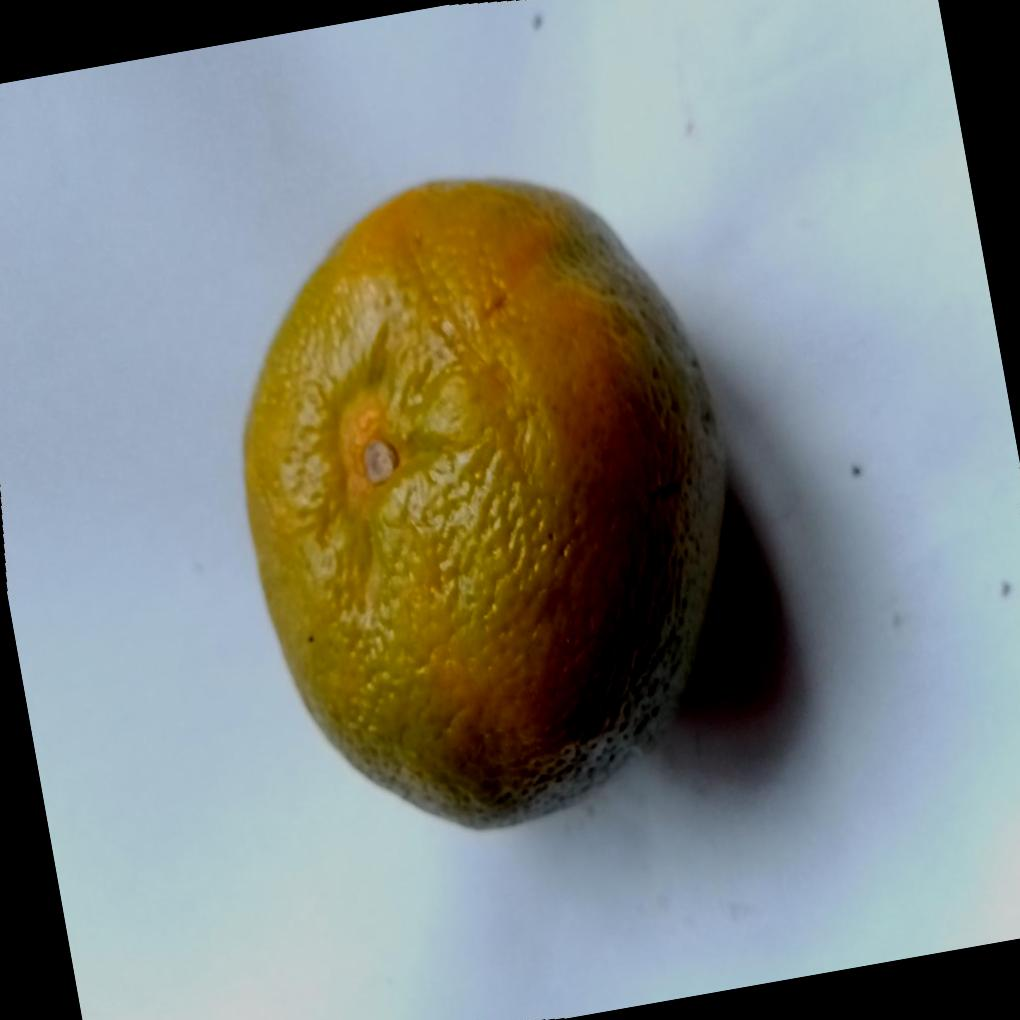FreshGuava: (242, 174, 734, 831)
